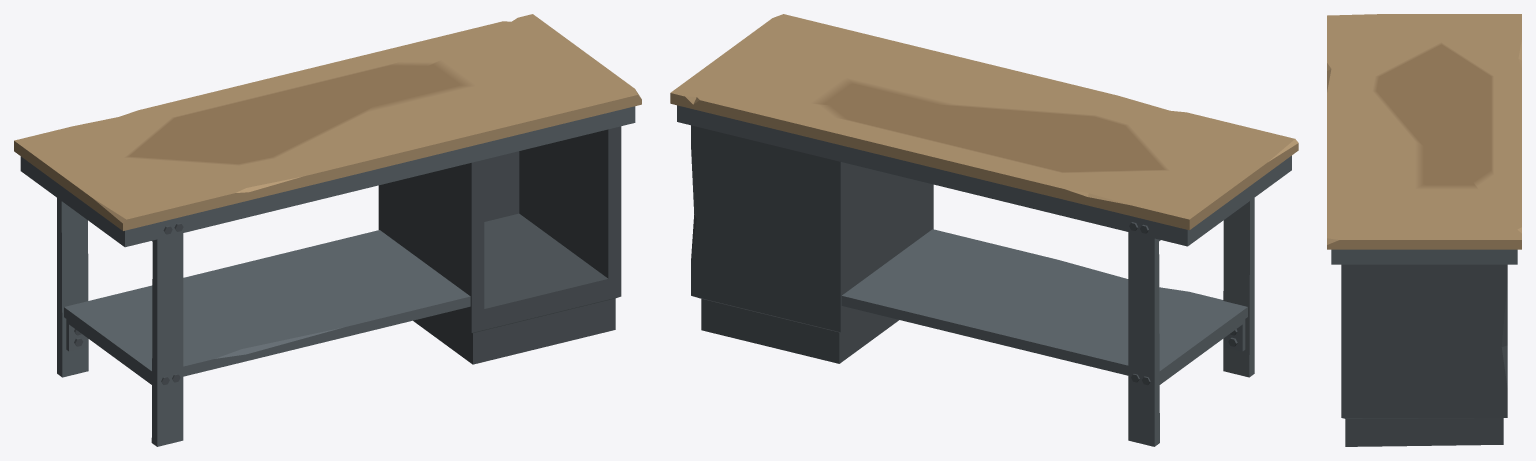
File: SM_Prop_WorkTable_01.fbx
3 views of the same model, side by side, from view 1: azimuth 30°, elevation 25°; view 2: azimuth 150°, elevation 25°; view 3: azimuth 270°, elevation 25° (orthographic). The views are drawn at different scales.
Visible parts, largest first — view 1: SM_Prop_WorkTable_01; view 2: SM_Prop_WorkTable_01; view 3: SM_Prop_WorkTable_01.
Boxes of the visible parts, left/top/right/bottom form: SM_Prop_WorkTable_01: left=14, top=14, right=641, bottom=446; SM_Prop_WorkTable_01: left=670, top=14, right=1298, bottom=446; SM_Prop_WorkTable_01: left=1327, top=14, right=1521, bottom=446.
Size of the model in its own units: 213 by 93.9 by 77.51.
